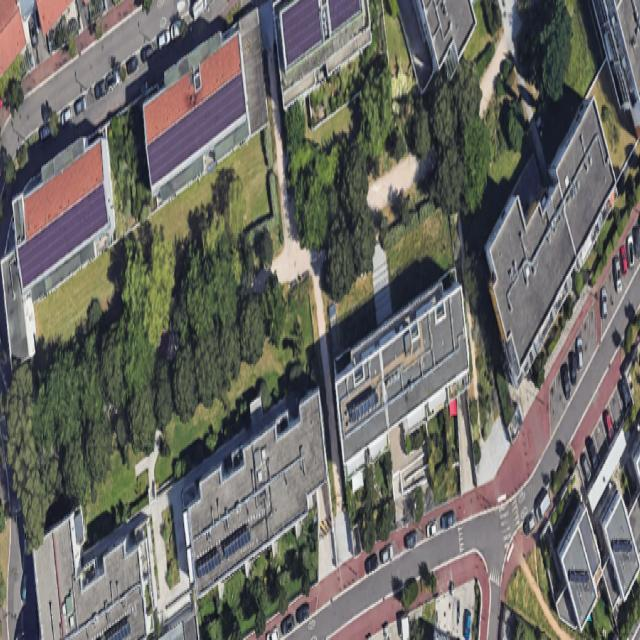immeuble: (434, 85, 640, 386), (136, 375, 375, 603), (282, 260, 517, 488), (94, 0, 315, 208), (7, 136, 121, 306), (272, 0, 376, 109)
